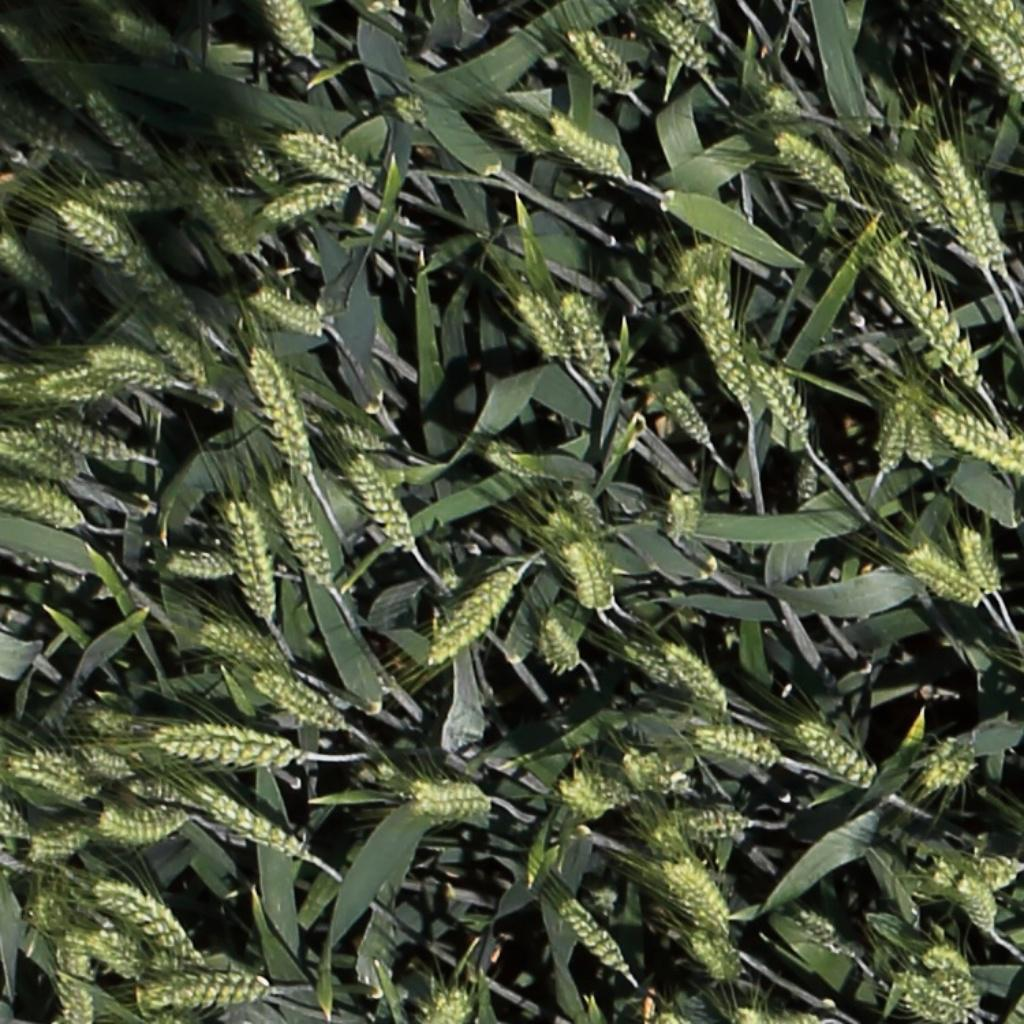0-0: (876, 244, 978, 389), (55, 202, 180, 306), (203, 778, 324, 867), (244, 342, 321, 480), (152, 712, 316, 771), (421, 570, 513, 670), (931, 139, 996, 271), (90, 883, 204, 958), (222, 501, 285, 624), (77, 86, 162, 174), (555, 897, 638, 986), (345, 450, 416, 554), (266, 479, 331, 591), (693, 278, 752, 401), (80, 168, 216, 220), (80, 695, 174, 769), (954, 155, 1011, 276), (559, 289, 625, 392), (548, 512, 617, 606), (251, 673, 351, 732), (144, 319, 215, 401), (547, 111, 624, 186), (249, 180, 346, 239), (132, 971, 275, 1011), (795, 723, 876, 790), (188, 177, 253, 259), (746, 357, 809, 441), (972, 19, 1024, 120), (660, 641, 730, 716), (660, 861, 730, 936), (902, 539, 980, 606), (937, 413, 1024, 473), (774, 135, 855, 199), (797, 899, 871, 969), (567, 27, 636, 101), (649, 5, 711, 86), (94, 796, 192, 846), (331, 414, 405, 479), (882, 162, 951, 230), (558, 535, 611, 622), (510, 288, 570, 364), (693, 729, 786, 778), (221, 131, 289, 198), (279, 132, 370, 182), (29, 364, 126, 410), (1, 95, 75, 155), (0, 476, 84, 527), (0, 358, 91, 405), (697, 270, 742, 364), (405, 773, 493, 817), (40, 421, 136, 461), (660, 382, 715, 451), (955, 521, 1002, 600), (625, 744, 694, 797), (73, 918, 142, 970), (929, 854, 1024, 891), (872, 397, 914, 479), (197, 626, 282, 666), (920, 736, 979, 793), (9, 759, 89, 801), (892, 390, 933, 471), (899, 975, 966, 1024), (669, 802, 757, 839), (623, 644, 688, 694), (928, 943, 974, 1013), (918, 973, 981, 1024), (249, 289, 320, 334), (953, 871, 999, 939), (756, 68, 809, 127), (59, 944, 98, 1024), (536, 611, 581, 678), (266, 0, 314, 62), (685, 929, 735, 988), (107, 13, 174, 57), (1, 232, 51, 290), (0, 432, 69, 473), (389, 78, 439, 133), (558, 776, 621, 819), (491, 105, 548, 152), (666, 477, 702, 550), (121, 781, 194, 815), (639, 824, 703, 862), (165, 549, 245, 579), (677, 0, 724, 43), (791, 449, 819, 517), (554, 783, 604, 820), (0, 794, 34, 847), (988, 0, 1024, 50), (77, 750, 134, 778), (28, 884, 55, 940), (431, 987, 468, 1024), (27, 836, 87, 858)
